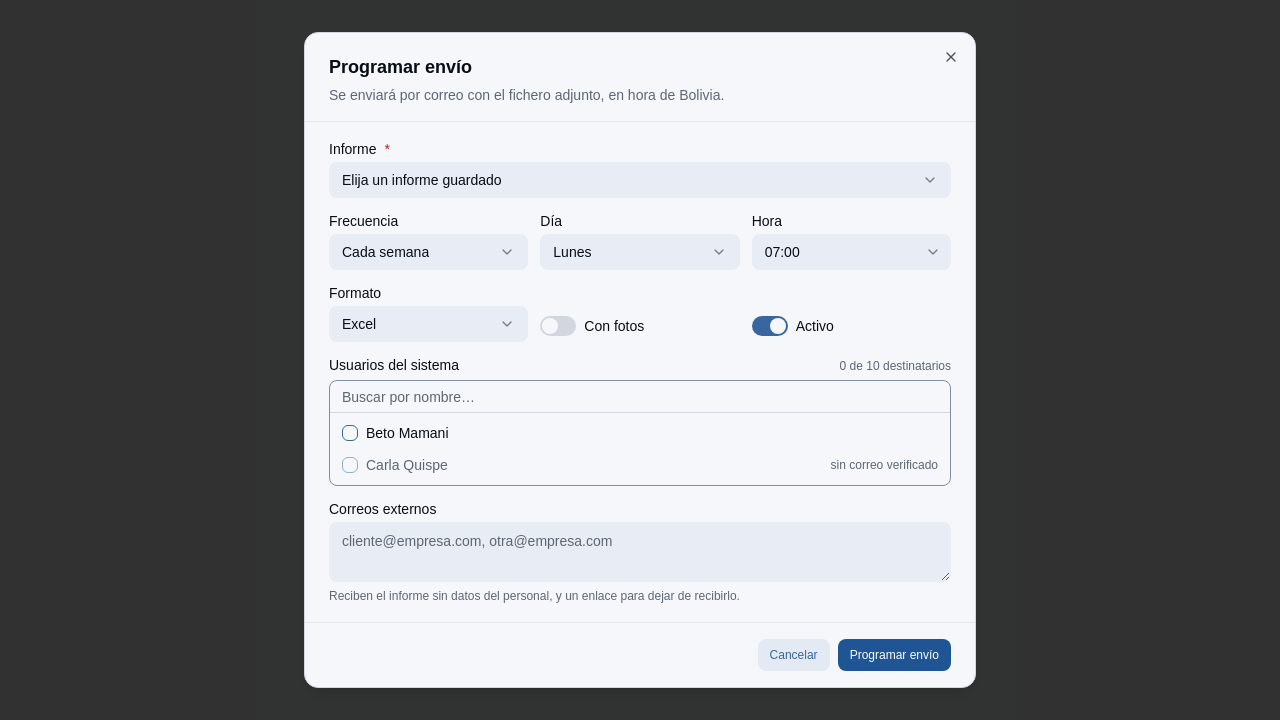
Test: the day field follows the frequency › asks for a weekday when weekly, a day of the month when monthly, and nothing when daily
The image size is (1280, 720).
Check: the text "Beto Mamani" is shown, box [366,423,448,443]
Check: the dropdown named "Día de la semana" is shown, box [540,234,740,270]
Click the dropdown named "Frecuencia": (429,252) [329,234,528,270]
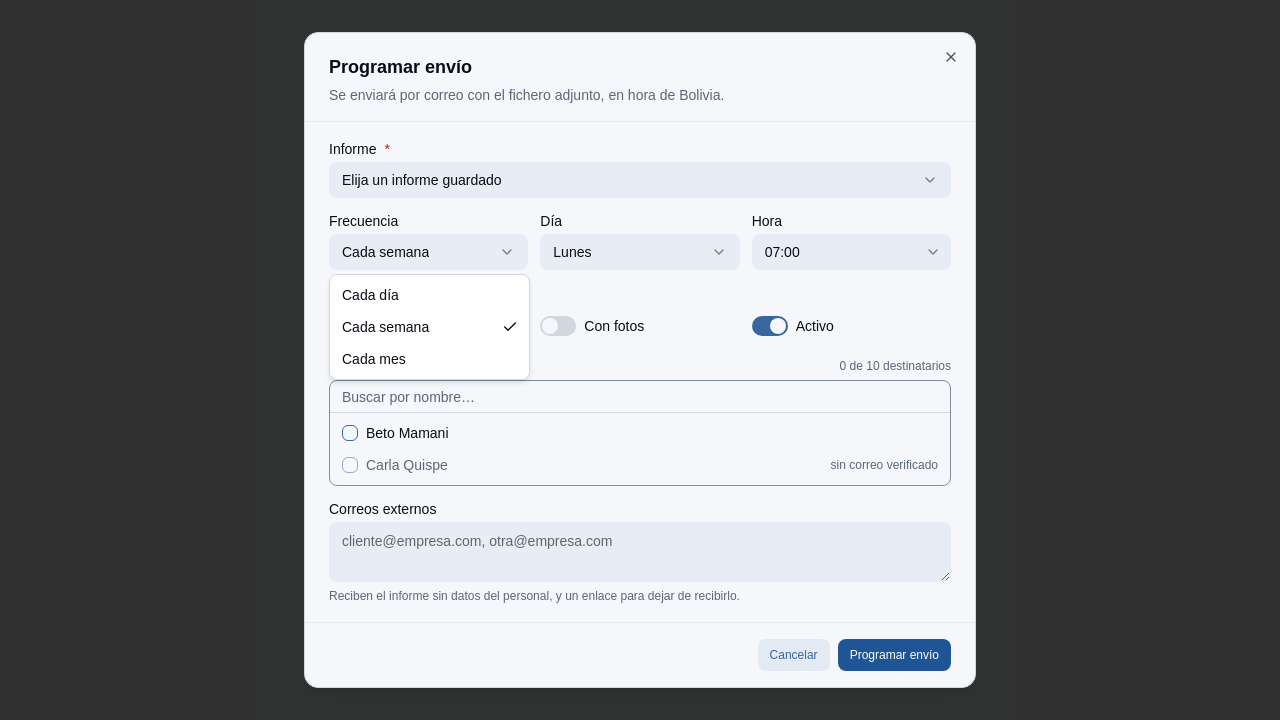
Click the option "Cada mes": (374,359) [342,351,406,367]
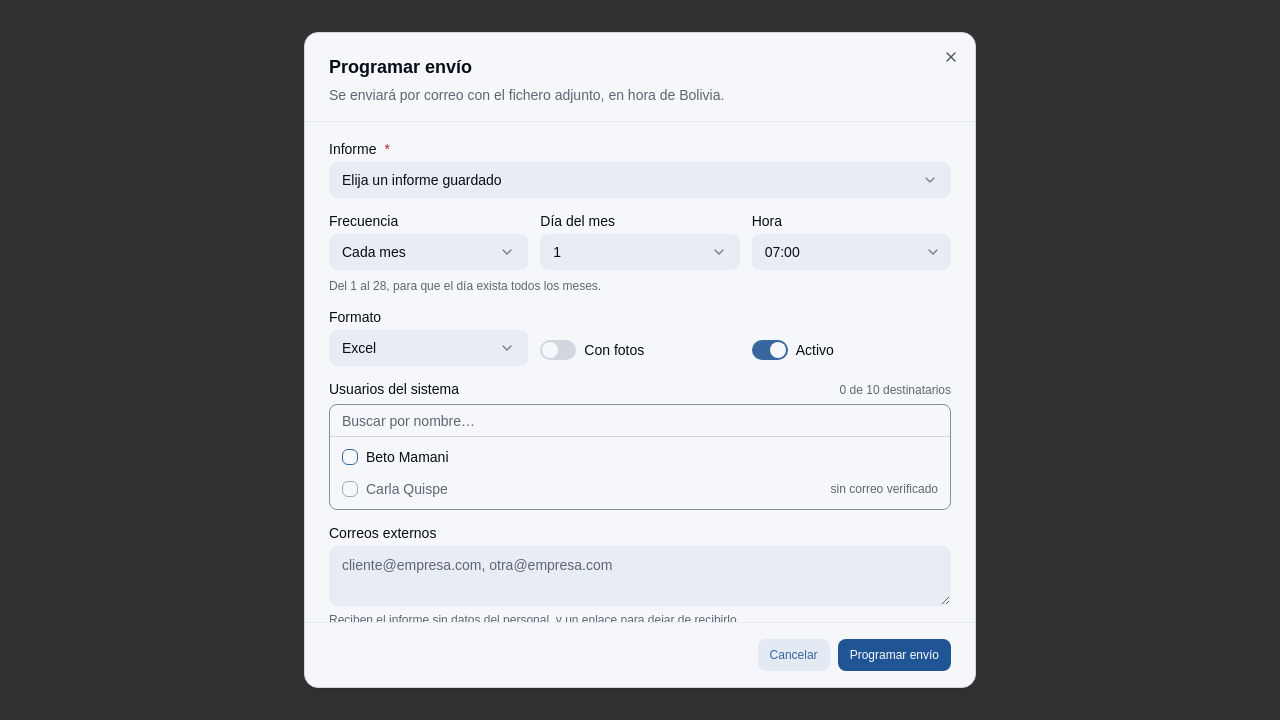
Check: the dropdown named "Día del mes" is shown, box [540,234,740,270]
Check: the text "Del 1 al 28, para que el día exista todos los meses." is shown, box [329,279,601,293]
Click the dropdown named "Frecuencia": (429,252) [329,234,528,270]
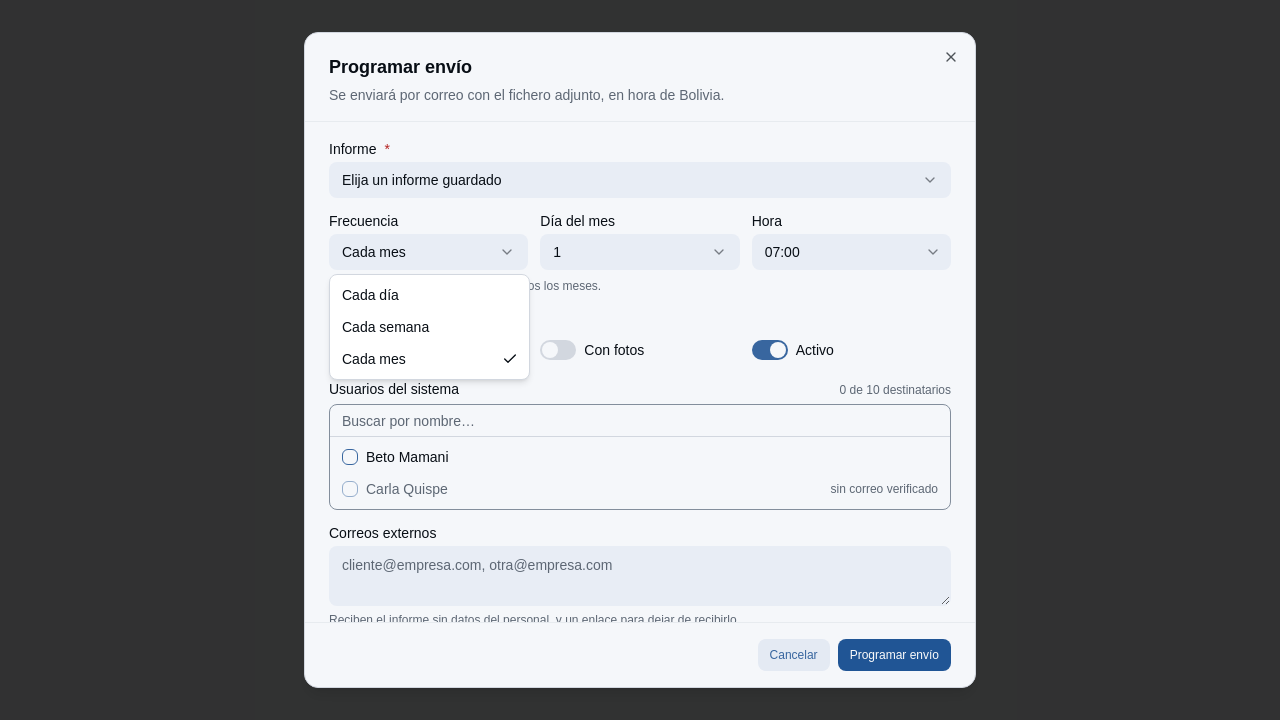
Click the option "Cada día": (370,295) [342,287,399,303]
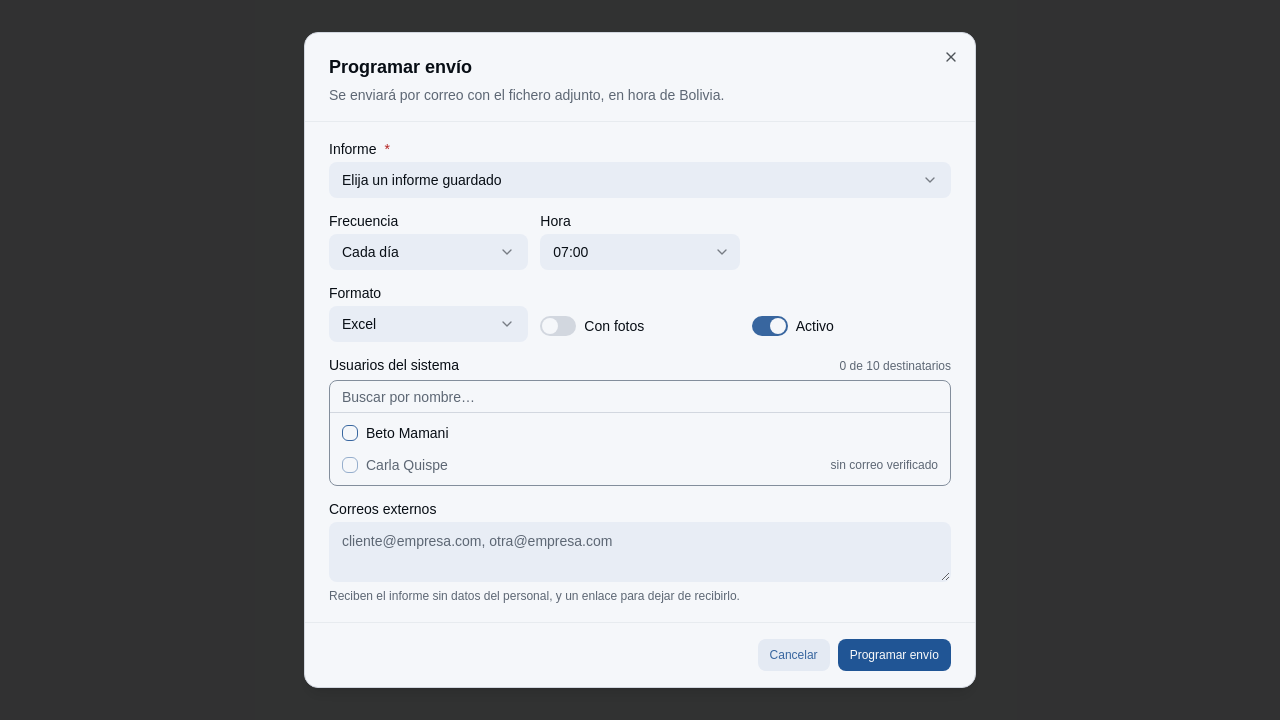
Check: the label "Día del mes" is gone
